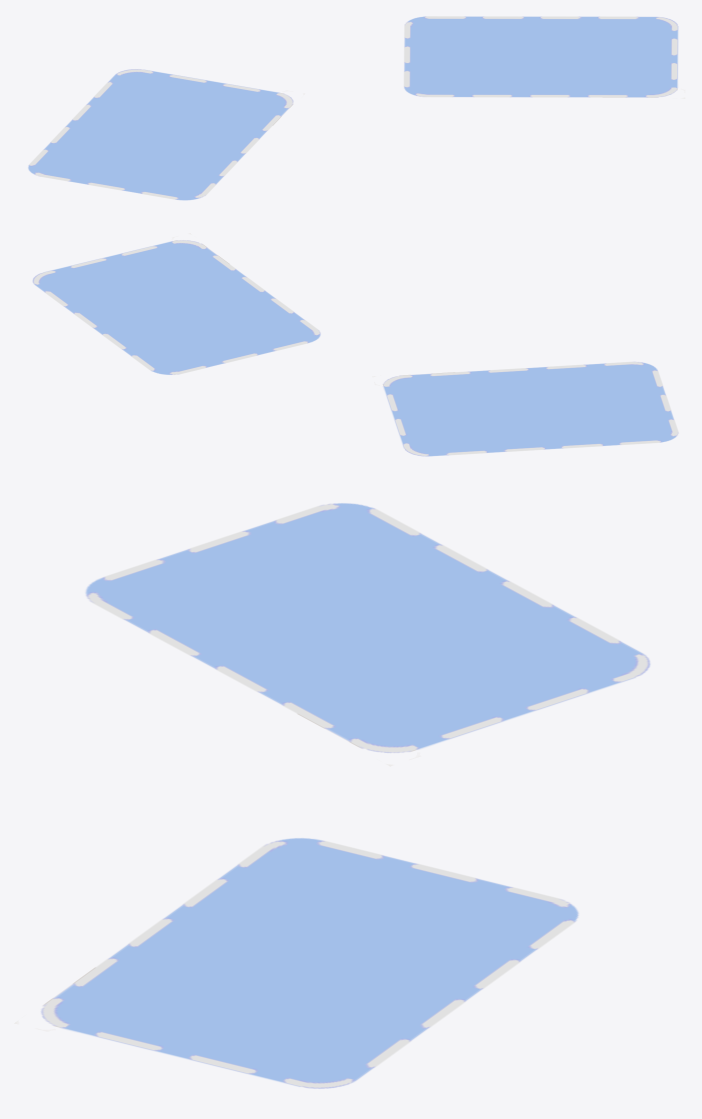
The model's file is UpgradeAndSale.glb.
The picture shows the model from 3 angles, top to bottom: view 1: azimuth 30°, elevation 25°; view 2: azimuth 150°, elevation 25°; view 3: azimuth 270°, elevation 25°; orthographic projection. The views are drawn at different scales.
Parts seen in each view (by area): view 1: Sale, Upgrade; view 2: Upgrade, Sale; view 3: Sale, Upgrade.
Part boxes in pixels (box(x1,y1,x2,y2)): Sale: box(403, 16, 678, 97); Upgrade: box(28, 69, 293, 200); Upgrade: box(383, 361, 678, 456); Sale: box(32, 240, 320, 374); Sale: box(41, 838, 578, 1088); Upgrade: box(86, 503, 650, 752).
Size of the model in its own units: 96.46 by 0 by 44.66.
1 material, 1 textured.
